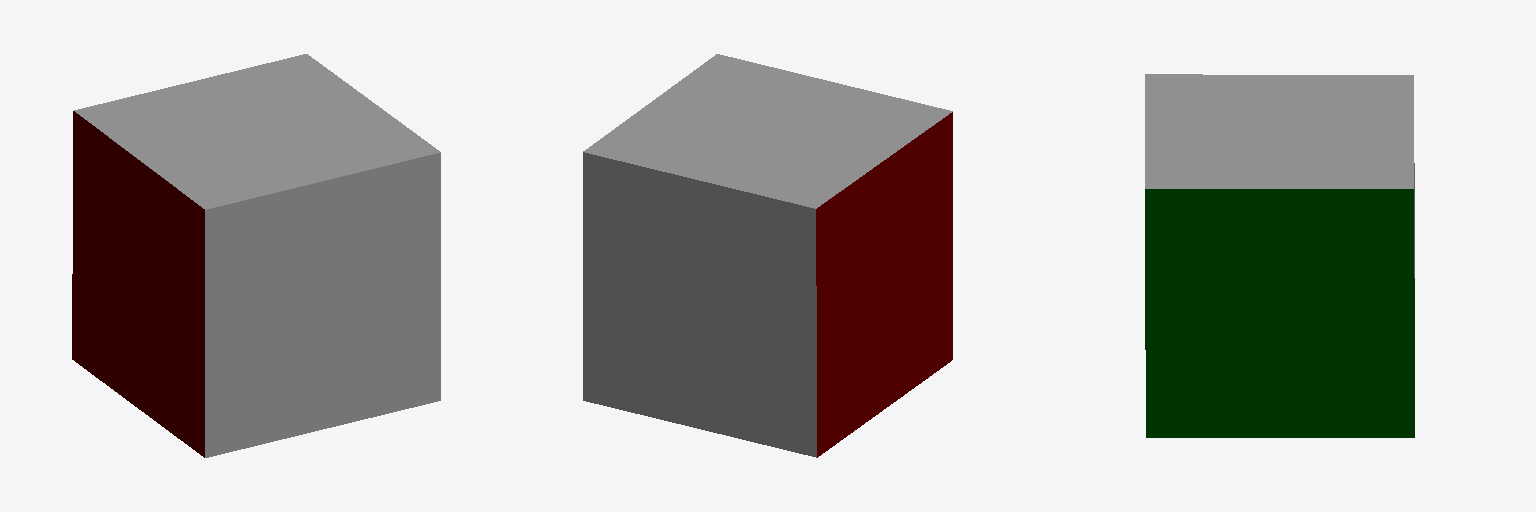
The model's file is cornell.obj.
3 views of the same model, side by side, from view 1: azimuth 30°, elevation 25°; view 2: azimuth 150°, elevation 25°; view 3: azimuth 270°, elevation 25° (orthographic).
Visible parts, largest first — view 1: ceiling, left_wall, back_wall; view 2: floor, left_wall, back_wall; view 3: right_wall, back_wall.
Boxes of the visible parts, box(x1,y1,x2,y2) form: ceiling: box(205, 153, 440, 457); left_wall: box(72, 111, 204, 457); back_wall: box(74, 54, 440, 209); floor: box(583, 152, 816, 457); left_wall: box(816, 112, 952, 457); back_wall: box(583, 54, 952, 208); right_wall: box(1145, 189, 1414, 437); back_wall: box(1145, 74, 1413, 188).
Bounding box in the file's own units: 17.22 × 17.33 × 17.01.